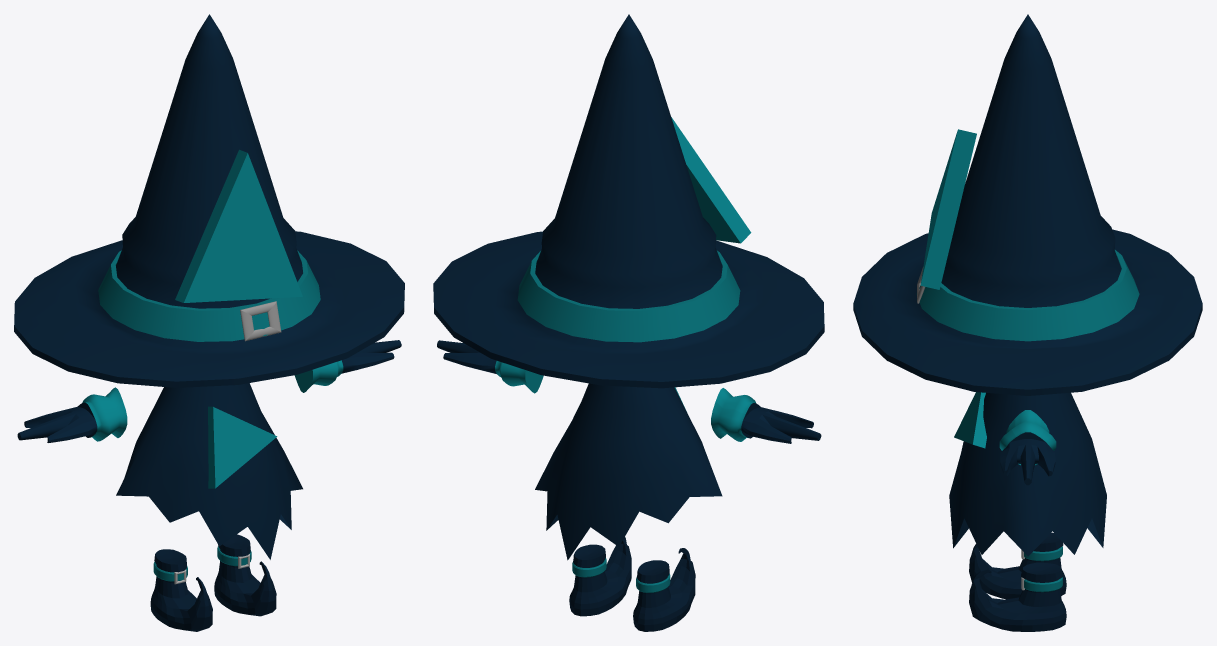
The model's file is tri_witch_modeling.fbx.
The picture shows the model from 3 angles, left to right: view 1: azimuth 30°, elevation 25°; view 2: azimuth 150°, elevation 25°; view 3: azimuth 270°, elevation 25°; orthographic projection.
Visible parts, largest first — view 1: Three_witches:hat, Three_witches:body, Three_witches:tri_hat, Three_witches:pPipe1, pPlane1 (×2), Three_witches:r_hand, Three_witches:tri_body, Three_witches:l_hand, Three_witches:pTorus2; view 2: Three_witches:hat, Three_witches:body, Three_witches:pPipe1, pPlane1 (×2), Three_witches:r_hand, Three_witches:tri_hat, Three_witches:l_hand; view 3: Three_witches:hat, Three_witches:body, Three_witches:pPipe1, pPlane1 (×2), Three_witches:tri_hat, Three_witches:l_hand, Three_witches:tri_body.
Part boxes in pixels (x1,y1,x2,y2): Three_witches:hat: (14, 14, 404, 387); Three_witches:body: (116, 383, 302, 559); Three_witches:tri_hat: (175, 149, 302, 302); Three_witches:pPipe1: (98, 250, 320, 341); pPlane1 (×2): (150, 534, 276, 631); Three_witches:r_hand: (17, 387, 127, 442); Three_witches:tri_body: (208, 406, 277, 488); Three_witches:l_hand: (294, 340, 401, 392); Three_witches:pTorus2: (240, 301, 281, 341); Three_witches:hat: (433, 14, 824, 388); Three_witches:body: (535, 383, 722, 560); Three_witches:pPipe1: (517, 250, 740, 342); pPlane1 (×2): (569, 537, 695, 631); Three_witches:r_hand: (711, 388, 821, 443); Three_witches:tri_hat: (671, 117, 751, 243); Three_witches:l_hand: (437, 340, 543, 393); Three_witches:hat: (853, 14, 1202, 395); Three_witches:body: (949, 392, 1106, 556); Three_witches:pPipe1: (916, 250, 1139, 341); pPlane1 (×2): (969, 532, 1066, 631); Three_witches:tri_hat: (920, 129, 976, 289); Three_witches:l_hand: (999, 410, 1056, 485); Three_witches:tri_body: (954, 392, 986, 448).
Bounding box in the file's own units: 14.85 × 22.2 × 11.84.
